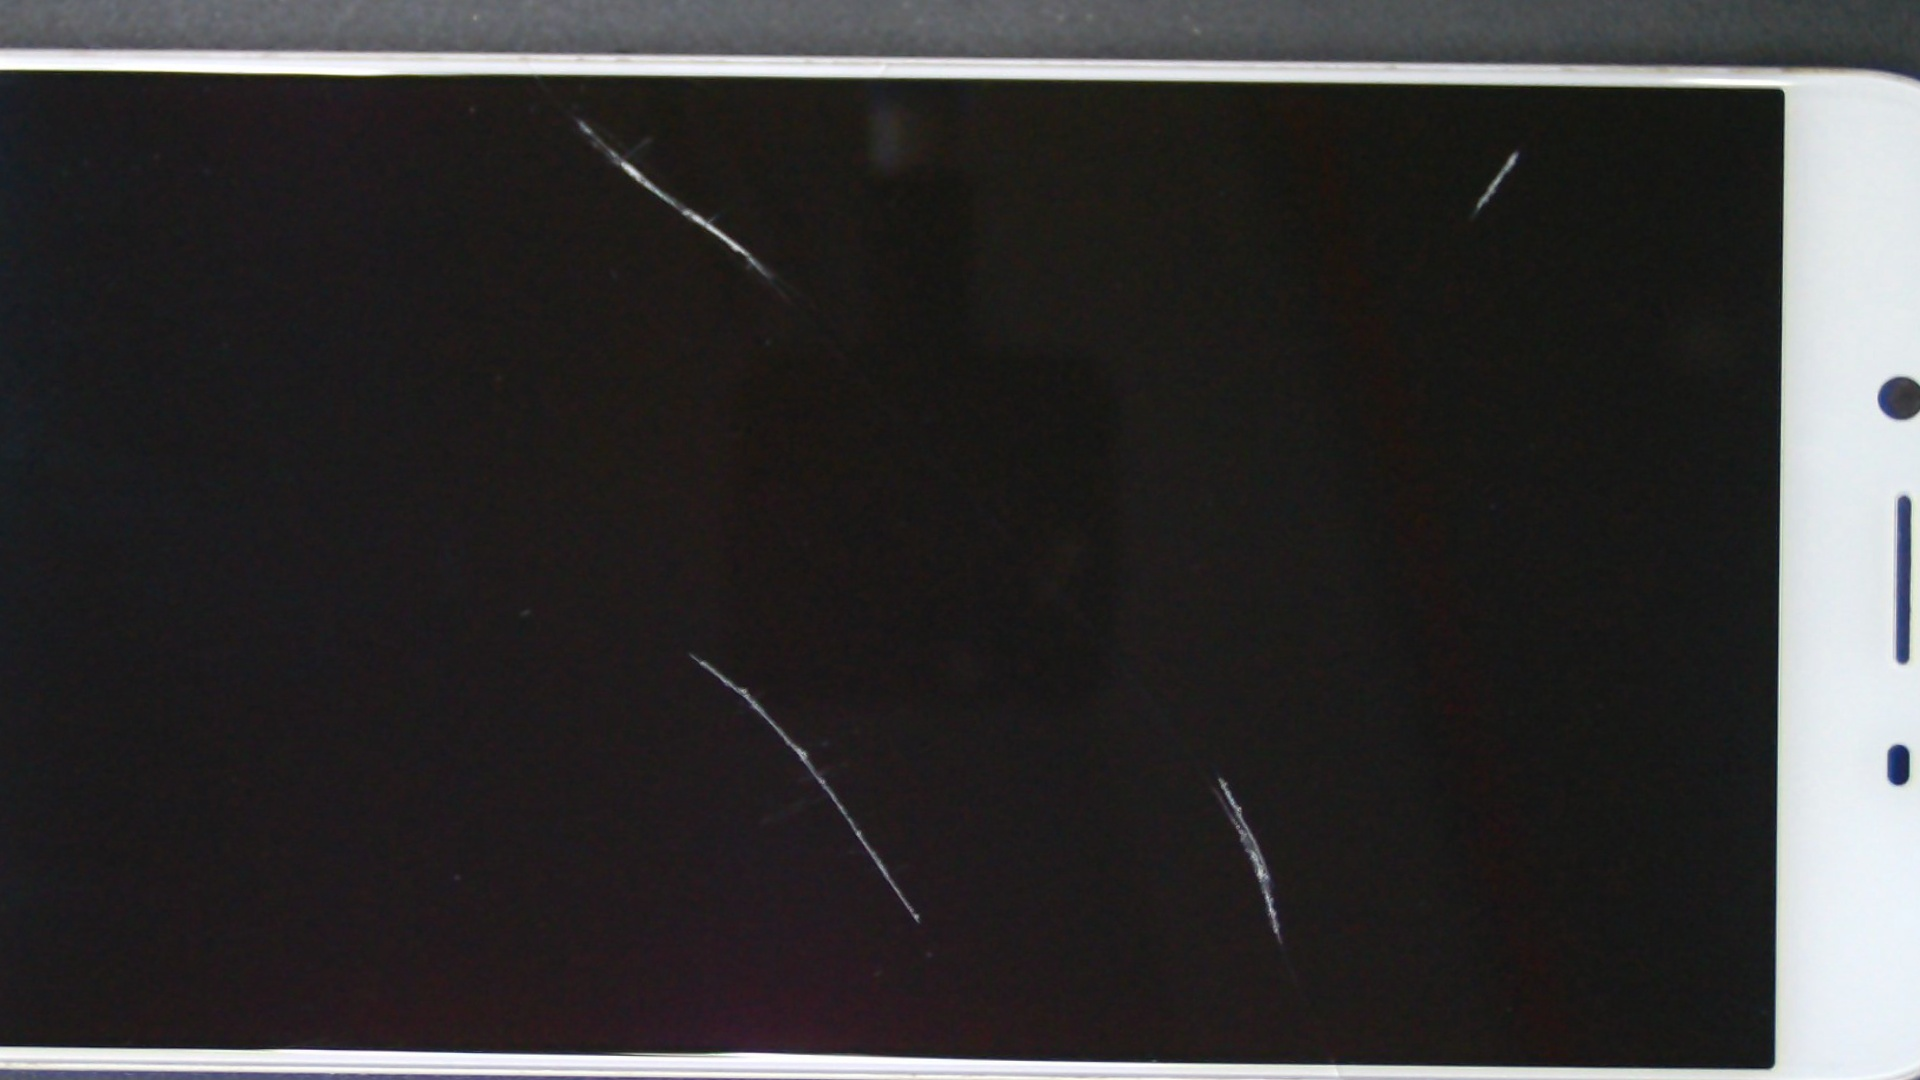oil: (471, 363, 1920, 1080), (207, 299, 1174, 1005), (625, 49, 1920, 251), (156, 32, 997, 200)
